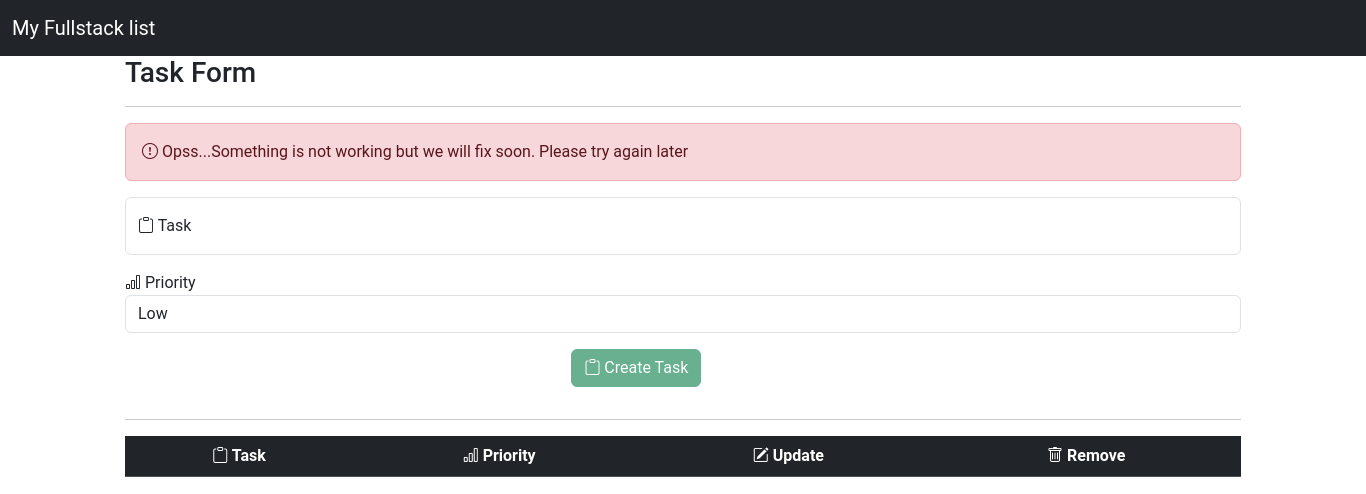
Test case: My fulltask list automation test › Create Task button should be enabled to create a new task with valid data on the field Task and Priority
In the field with id "floatingInput": (683,226) [125,197,1241,255], type "Task Test"
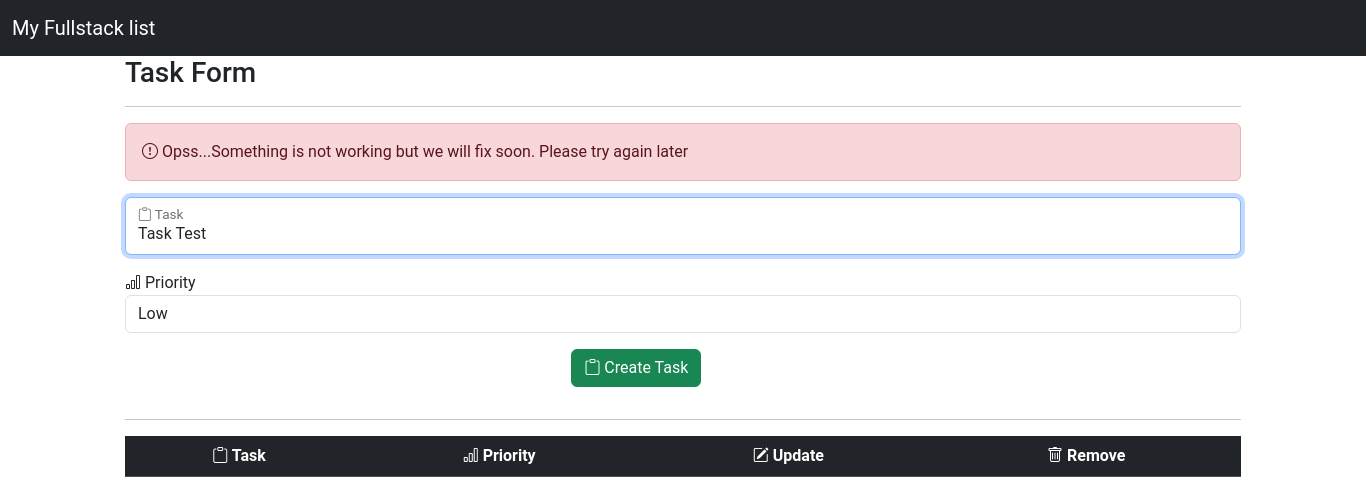
Expected: the dropdown labelled "Priority" shows "Low", [125,295,1241,333]
Expected: the button with id "create-task-id" is enabled, [571,349,701,387]
